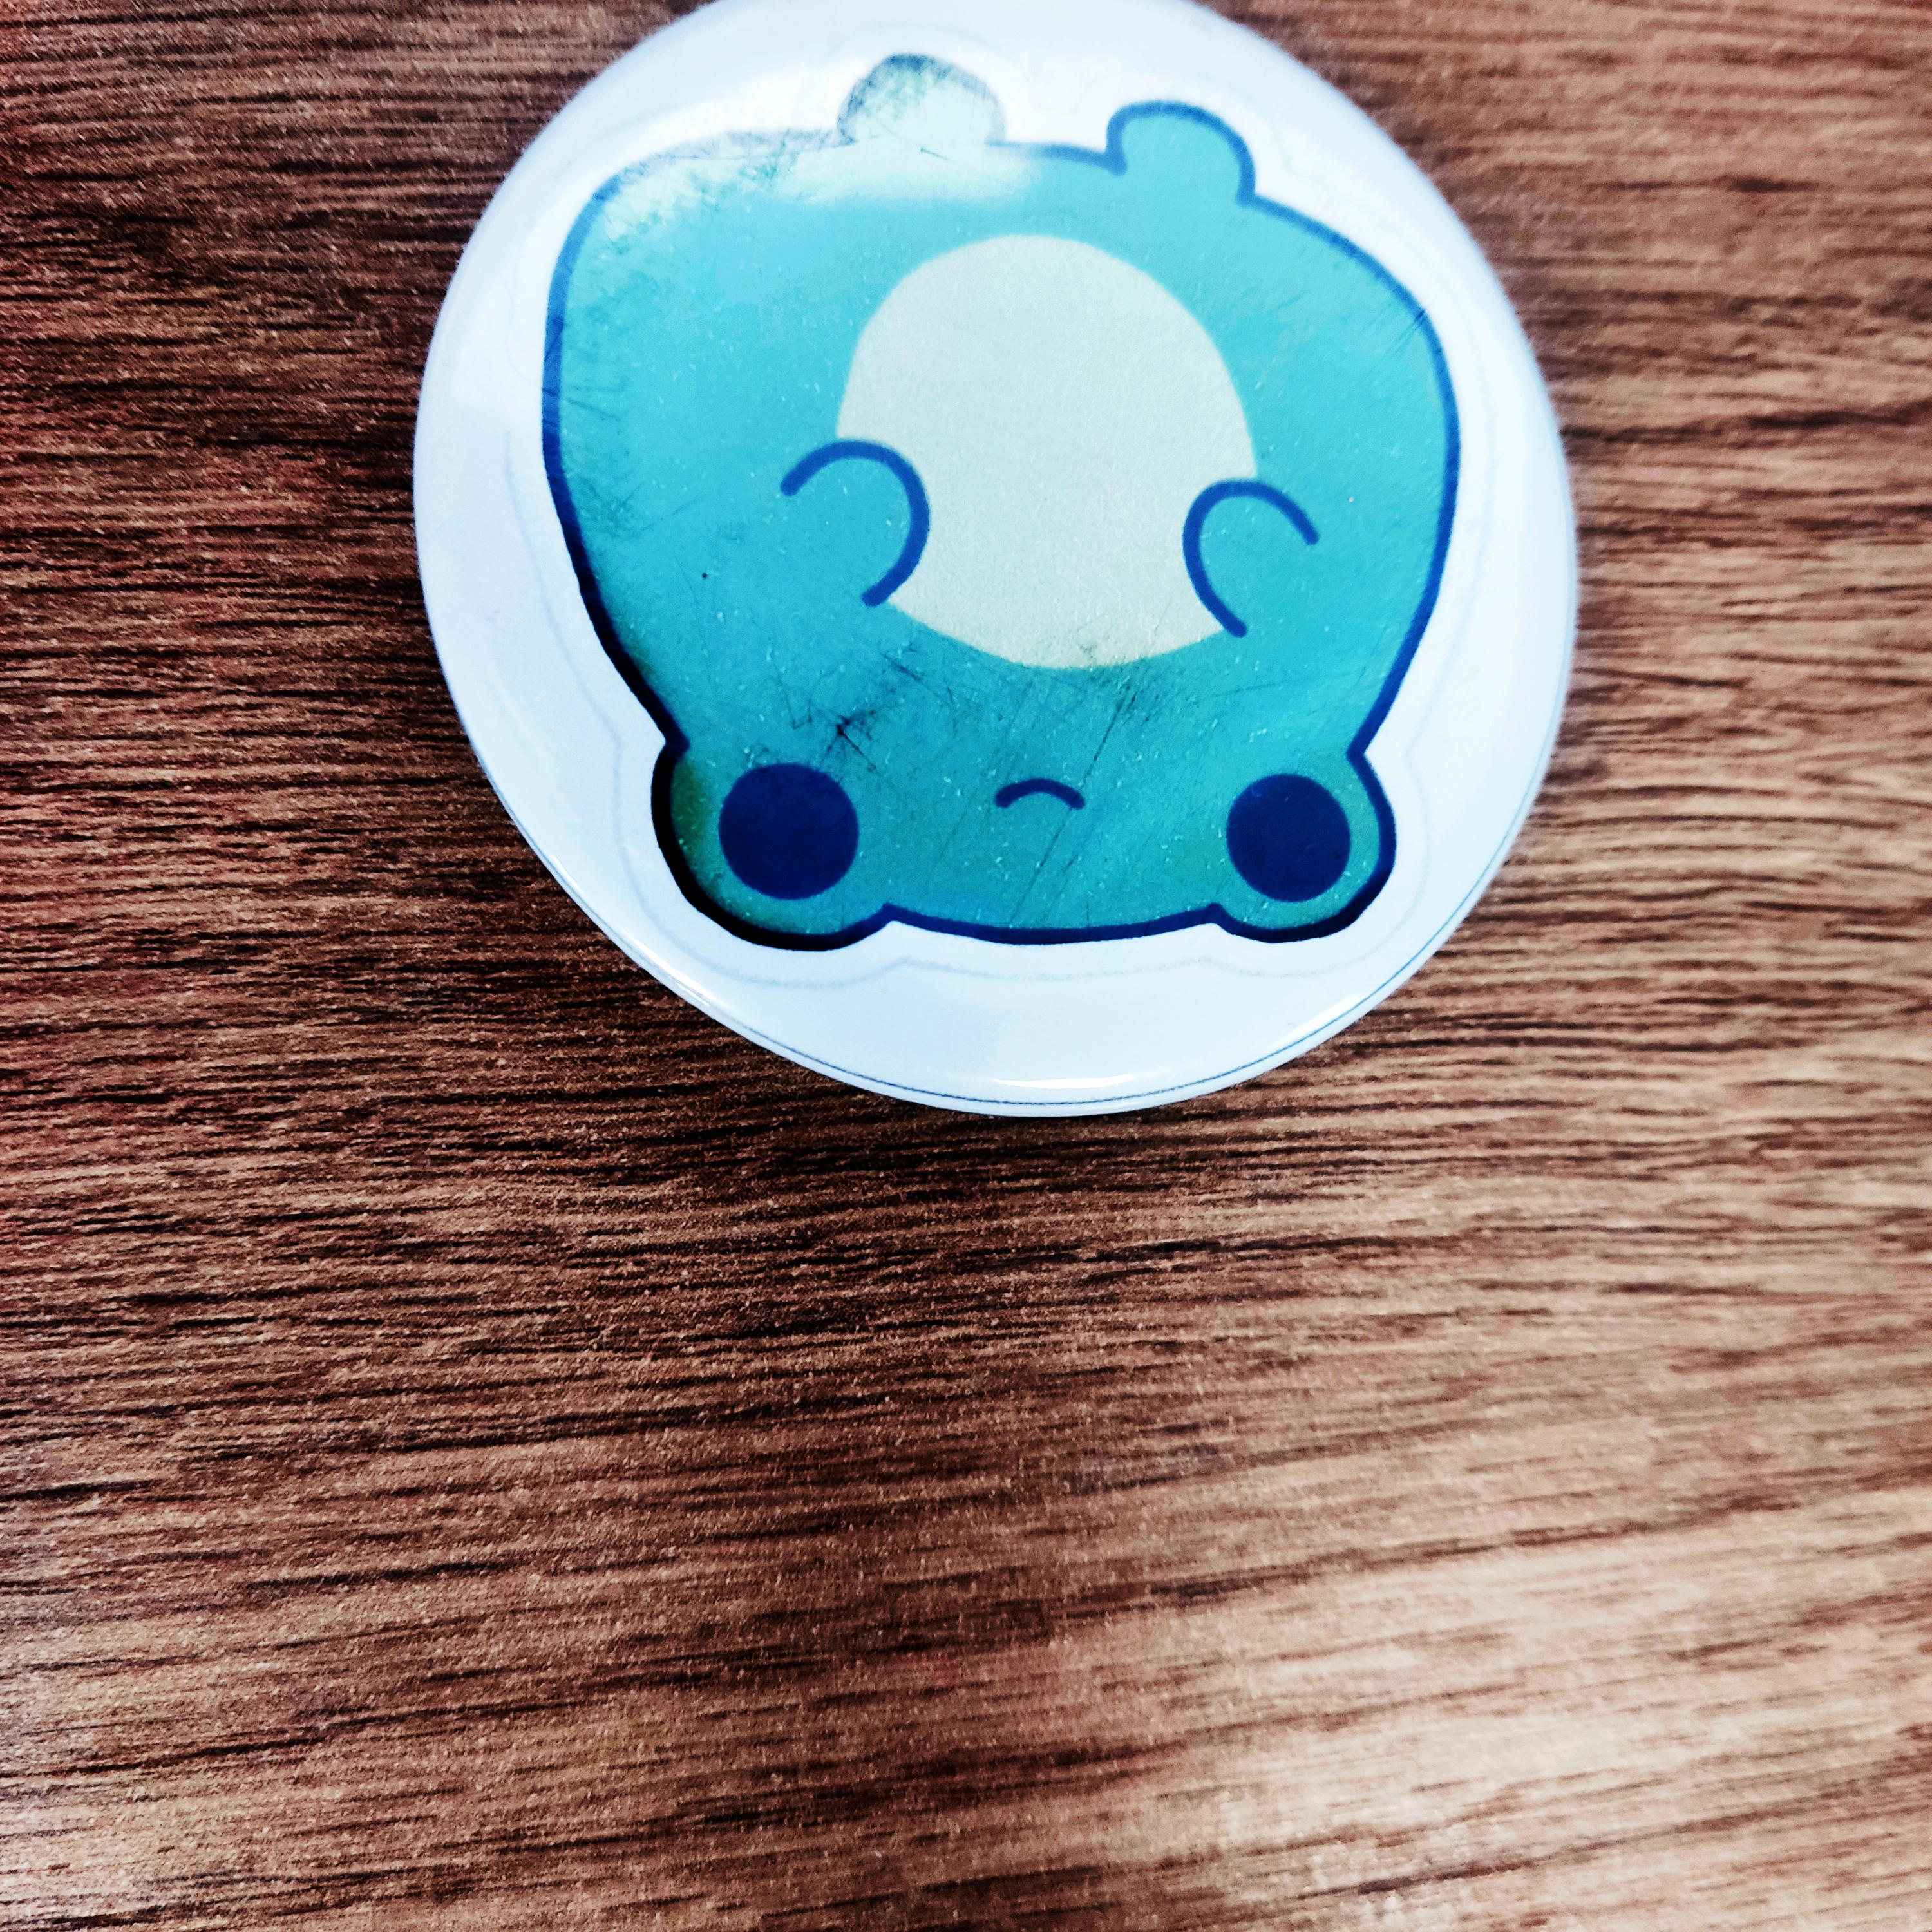pin: (386, 2, 1610, 1123)
